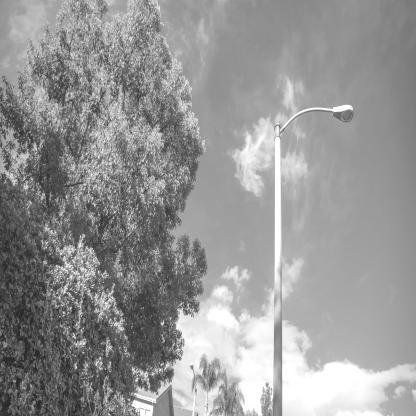light_pole: (274, 102, 355, 416)
